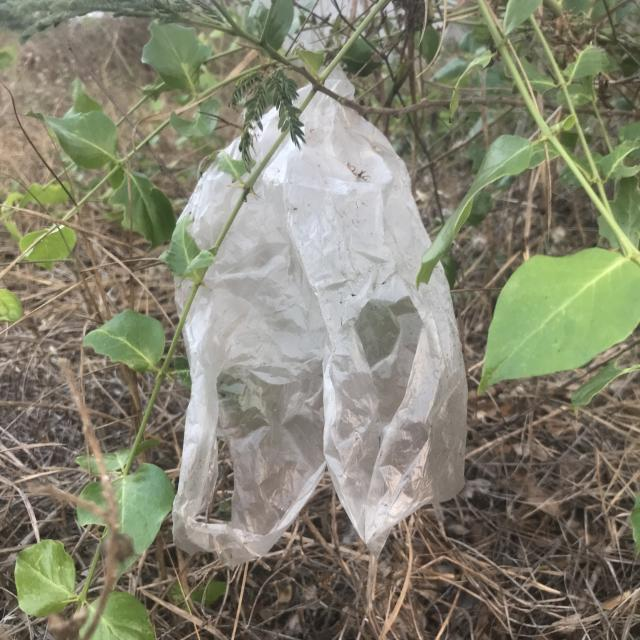Single-layer Plastic: (165, 88, 468, 565)
